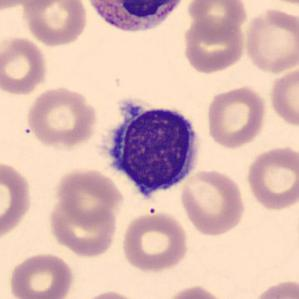Lymphocyte: (95, 90, 206, 207)
Neutrophil: (85, 0, 191, 41)
RBC: (177, 168, 248, 238), (24, 84, 100, 149), (119, 210, 191, 274), (46, 198, 121, 258), (53, 166, 125, 226), (204, 84, 268, 150), (180, 17, 248, 75), (242, 7, 298, 75), (244, 143, 298, 212), (6, 250, 76, 299), (20, 0, 88, 47), (0, 35, 49, 97), (0, 157, 34, 242), (185, 0, 249, 40), (267, 65, 299, 128), (162, 283, 229, 299), (251, 277, 298, 299), (76, 289, 144, 299), (0, 0, 49, 13), (261, 0, 299, 7)
